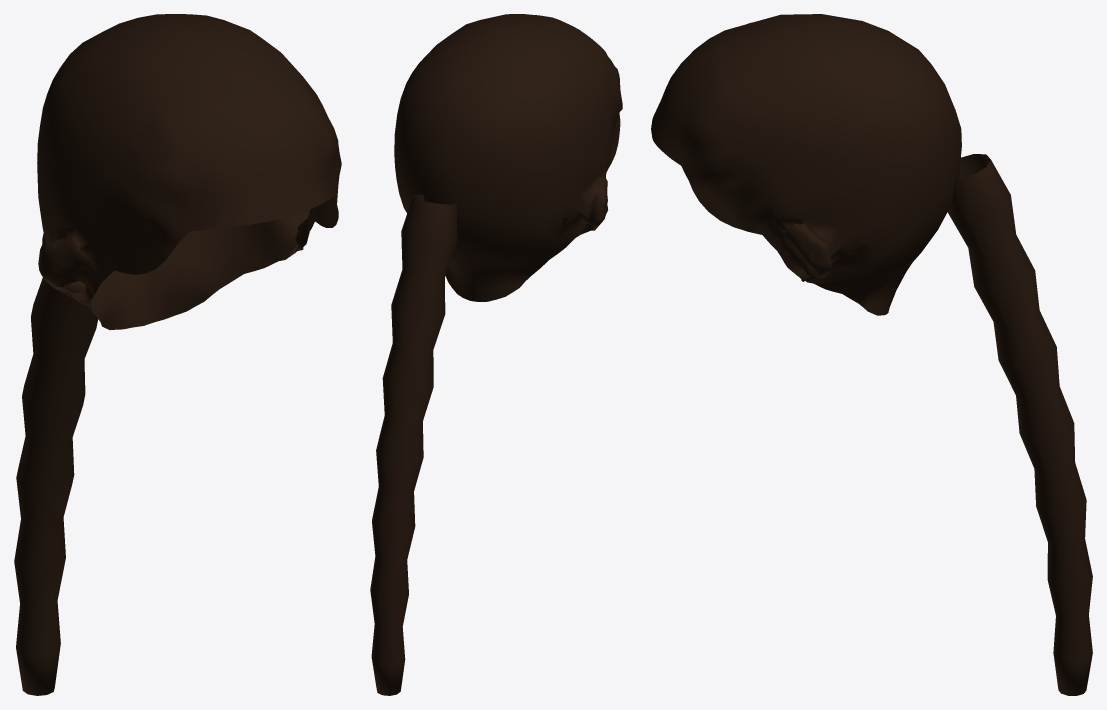
Rendered from hair_braid.glb.
3 views of the same model, side by side, from view 1: azimuth 30°, elevation 25°; view 2: azimuth 150°, elevation 25°; view 3: azimuth 270°, elevation 25° (orthographic). The views are drawn at different scales.
Parts seen in each view (by area): view 1: hair_braid; view 2: hair_braid; view 3: hair_braid.
Boxes of the visible parts, x1,y1,x2,y2 form: hair_braid: (14, 14, 341, 695); hair_braid: (370, 14, 622, 695); hair_braid: (651, 14, 1092, 695).
Bounding box in the file's own units: 0.1987 × 0.53 × 0.3211.
